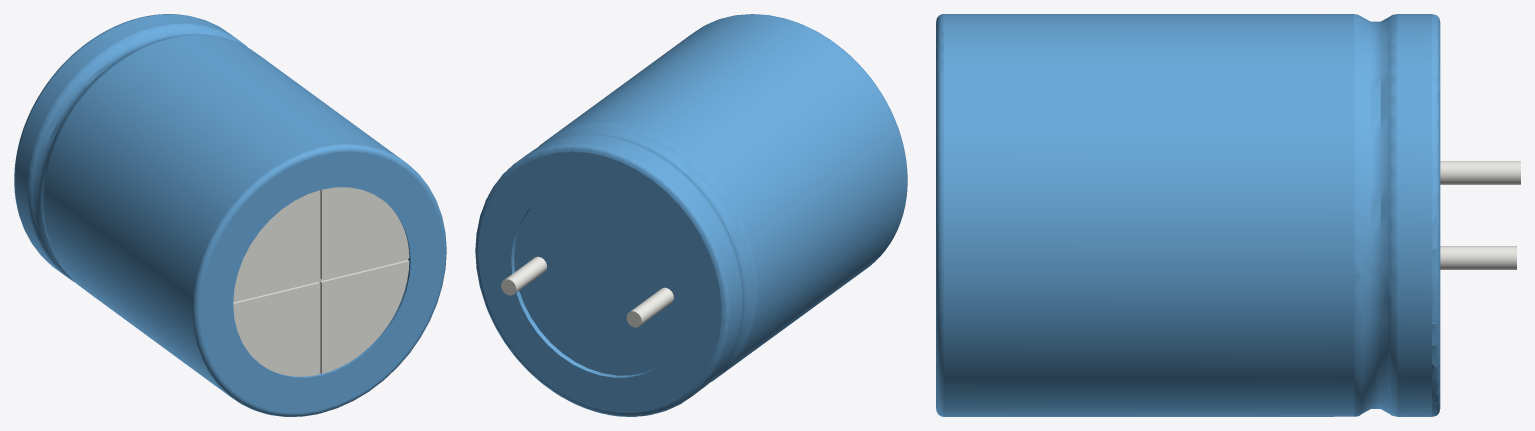
The model's file is C_Radial_D10.0mm_H12.5mm_P5.00mm.glb.
The picture shows the model from 3 angles, left to right: view 1: azimuth 30°, elevation 25°; view 2: azimuth 150°, elevation 25°; view 3: azimuth 270°, elevation 25°; orthographic projection. The views are drawn at different scales.
Visible parts, largest first — view 1: Shape_IndexedFaceSet.012, Shape_IndexedFaceSet.014, Shape_IndexedFaceSet.021, Shape_IndexedFaceSet.018, Shape_IndexedFaceSet.027, Shape_IndexedFaceSet.024, Shape_IndexedFaceSet.013, Shape_IndexedFaceSet.008, Shape_IndexedFaceSet.010, Shape_IndexedFaceSet.009, Shape_IndexedFaceSet.011, Shape_IndexedFaceSet.016 (+2 smaller); view 2: Shape_IndexedFaceSet.012, Shape_IndexedFaceSet.002, Shape_IndexedFaceSet.005, Shape_IndexedFaceSet.007, Shape_IndexedFaceSet.008, Shape_IndexedFaceSet.010, Shape_IndexedFaceSet.011, Shape_IndexedFaceSet.003, Shape_IndexedFaceSet.004, Shape_IndexedFaceSet.001, Shape_IndexedFaceSet.009, Shape_IndexedFaceSet.013; view 3: Shape_IndexedFaceSet.012, Shape_IndexedFaceSet.008, Shape_IndexedFaceSet.010, Shape_IndexedFaceSet.009, Shape_IndexedFaceSet.011, Shape_IndexedFaceSet.007, Shape_IndexedFaceSet.013, Shape_IndexedFaceSet.004, Shape_IndexedFaceSet.001.
Part boxes in pixels (<box>): Shape_IndexedFaceSet.012: <box>43,35,405,394</box>; Shape_IndexedFaceSet.014: <box>200,151,443,412</box>; Shape_IndexedFaceSet.021: <box>233,283,319,376</box>; Shape_IndexedFaceSet.018: <box>322,261,409,373</box>; Shape_IndexedFaceSet.027: <box>322,187,409,279</box>; Shape_IndexedFaceSet.024: <box>233,190,319,301</box>; Shape_IndexedFaceSet.013: <box>192,144,446,416</box>; Shape_IndexedFaceSet.008: <box>15,14,249,275</box>; Shape_IndexedFaceSet.010: <box>33,28,235,273</box>; Shape_IndexedFaceSet.009: <box>28,23,246,282</box>; Shape_IndexedFaceSet.011: <box>42,34,253,281</box>; Shape_IndexedFaceSet.016: <box>233,190,407,372</box>; Shape_IndexedFaceSet.012: <box>546,14,906,375</box>; Shape_IndexedFaceSet.002: <box>514,187,688,375</box>; Shape_IndexedFaceSet.005: <box>478,151,721,412</box>; Shape_IndexedFaceSet.007: <box>475,144,729,416</box>; Shape_IndexedFaceSet.008: <box>517,135,742,394</box>; Shape_IndexedFaceSet.010: <box>549,128,752,372</box>; Shape_IndexedFaceSet.011: <box>538,123,757,382</box>; Shape_IndexedFaceSet.003: <box>511,200,662,377</box>; Shape_IndexedFaceSet.004: <box>630,287,673,325</box>; Shape_IndexedFaceSet.001: <box>505,256,546,293</box>; Shape_IndexedFaceSet.009: <box>531,134,743,376</box>; Shape_IndexedFaceSet.013: <box>707,14,907,264</box>; Shape_IndexedFaceSet.012: <box>944,14,1353,416</box>; Shape_IndexedFaceSet.008: <box>1397,14,1431,416</box>; Shape_IndexedFaceSet.010: <box>1362,17,1388,413</box>; Shape_IndexedFaceSet.009: <box>1389,14,1397,416</box>; Shape_IndexedFaceSet.011: <box>1354,14,1362,416</box>; Shape_IndexedFaceSet.007: <box>1432,14,1440,416</box>; Shape_IndexedFaceSet.013: <box>936,14,943,416</box>; Shape_IndexedFaceSet.004: <box>1440,161,1520,184</box>; Shape_IndexedFaceSet.001: <box>1440,246,1516,269</box>.
Size of the model in its own units: 3.94 by 3.94 by 5.71.
